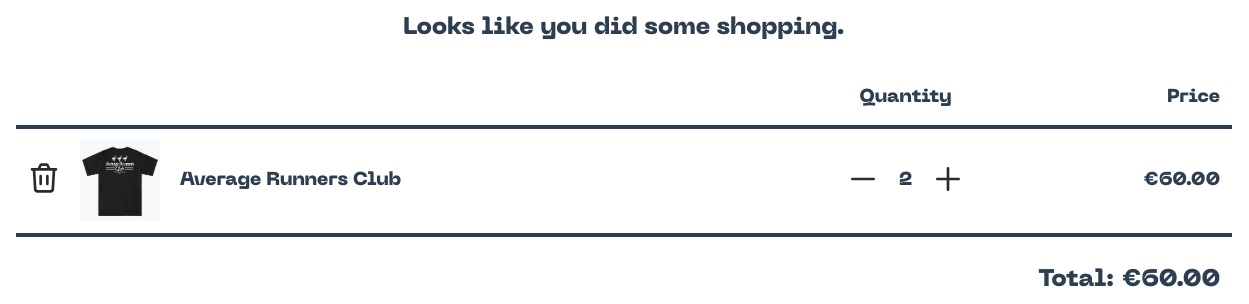
Test: View: Cart View › increments the quantity of a cart item
Click the 3rd button at x=948, y=181, box [932,164,964,199]
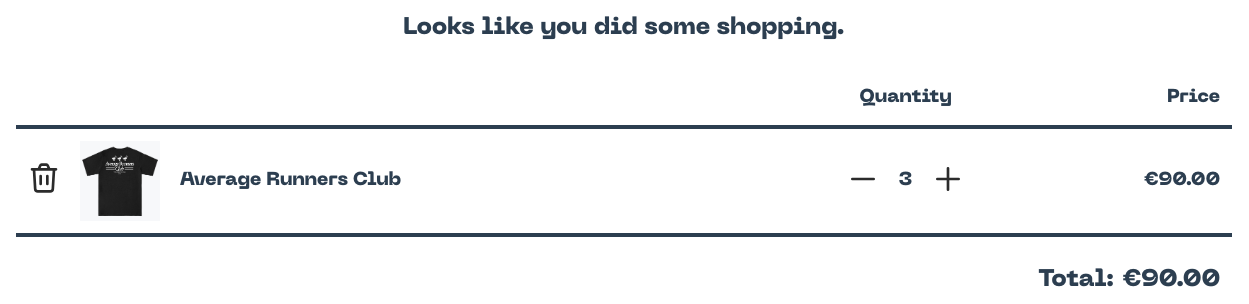
Expected: the heading "3" is shown, [899,166,912,196]
